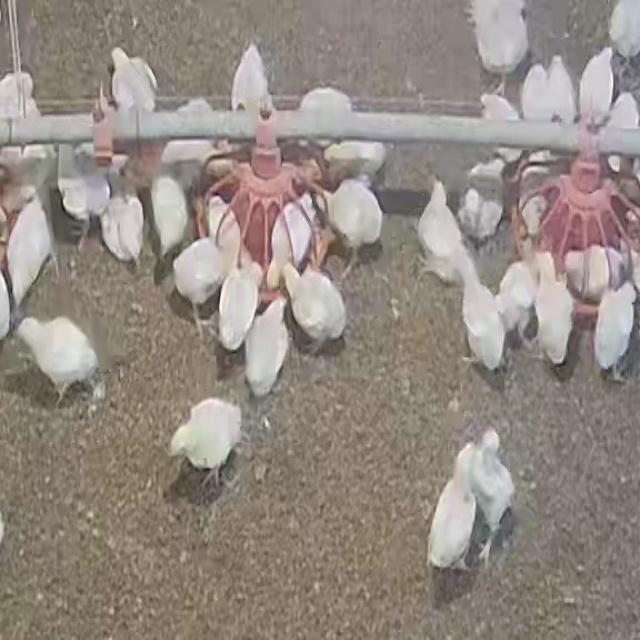chicken: (14, 314, 103, 408), (425, 442, 480, 574), (3, 189, 58, 318), (282, 258, 347, 356), (170, 235, 229, 341), (324, 172, 384, 275), (458, 258, 508, 380), (171, 399, 241, 483), (467, 0, 531, 88), (416, 178, 467, 284), (472, 428, 514, 555), (215, 252, 264, 360), (532, 253, 576, 370), (243, 296, 290, 401), (98, 168, 146, 266), (593, 278, 639, 378), (459, 160, 509, 249), (159, 101, 222, 170), (268, 195, 316, 284), (102, 44, 156, 123), (149, 170, 190, 270), (495, 258, 538, 350), (230, 43, 270, 141), (562, 242, 626, 302), (56, 143, 99, 228), (477, 95, 523, 168), (515, 142, 549, 240), (296, 86, 354, 137), (545, 53, 579, 140), (517, 68, 555, 144), (322, 140, 387, 184), (577, 48, 615, 122), (204, 190, 240, 267), (609, 1, 640, 63), (605, 92, 640, 133)
